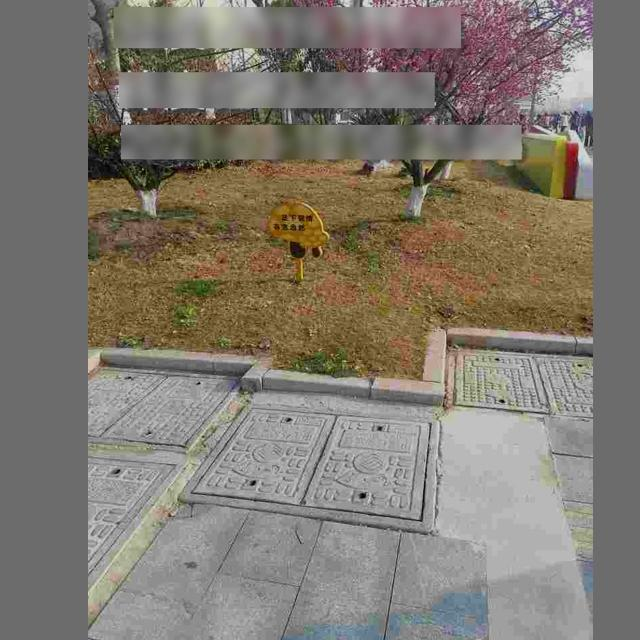good: (178, 399, 440, 539), (88, 459, 197, 627), (88, 367, 242, 450), (451, 343, 593, 429)
